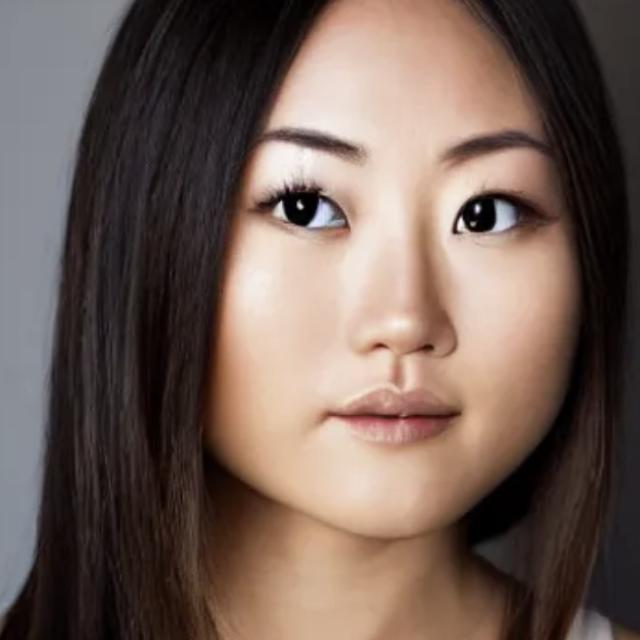natural: (97, 56, 594, 508)
